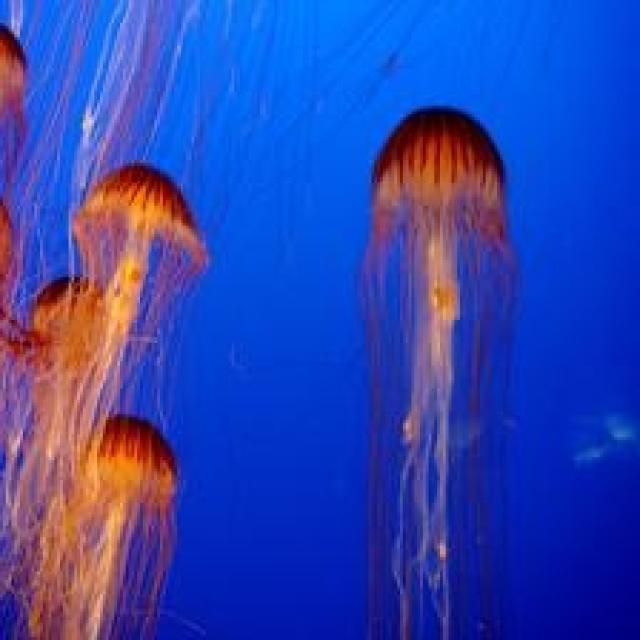Box-jellyfish: (357, 103, 520, 637), (15, 163, 216, 512), (21, 413, 212, 640)
